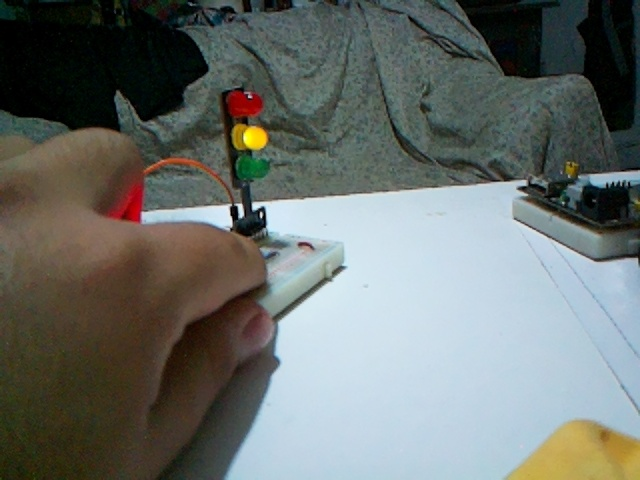traffic_light_yellow: (222, 85, 271, 236)
